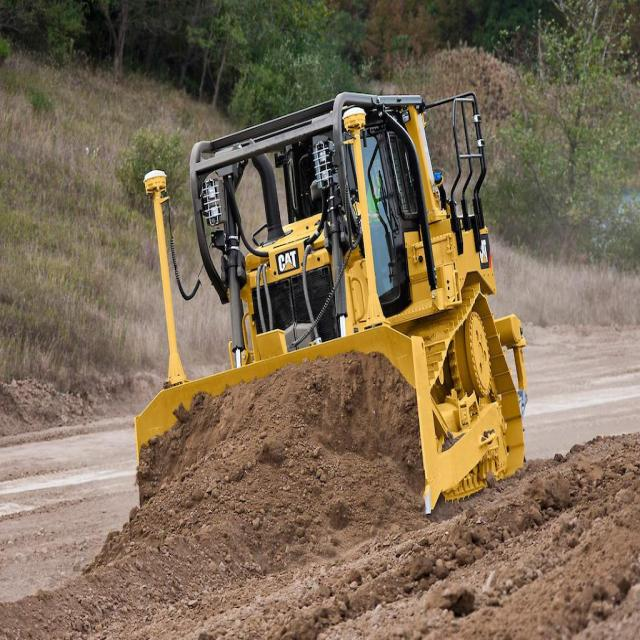buldozerpayloadergrader: (120, 70, 555, 546)
